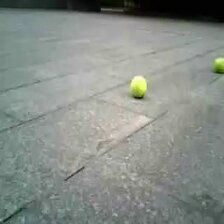tennis: (130, 76, 147, 96), (213, 58, 224, 73)
